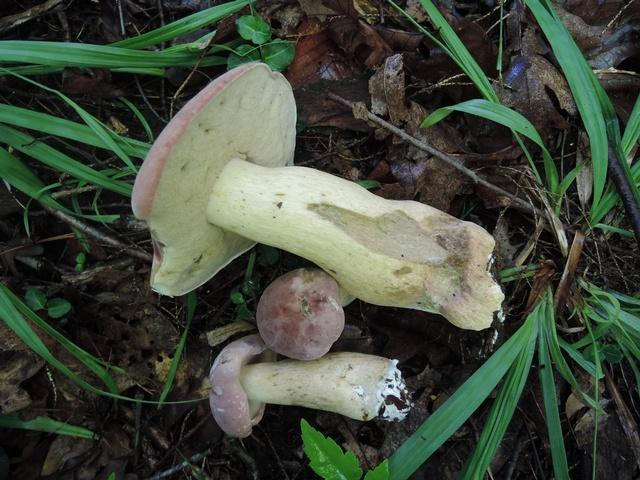Non-edible Mushroom: (129, 60, 505, 333), (184, 334, 410, 435)
